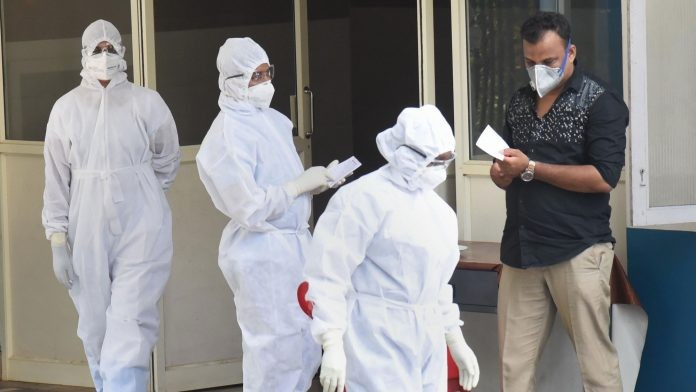Coverall: (41, 17, 181, 392), (197, 37, 324, 392), (310, 105, 462, 392)
Gloves: (445, 324, 483, 391), (282, 162, 335, 202), (317, 330, 350, 392), (44, 229, 77, 289)
Goggles: (408, 145, 455, 169), (89, 39, 121, 58), (247, 65, 276, 84)
with_mask: (524, 52, 563, 98), (414, 149, 449, 193), (86, 44, 123, 84), (244, 67, 276, 112)
